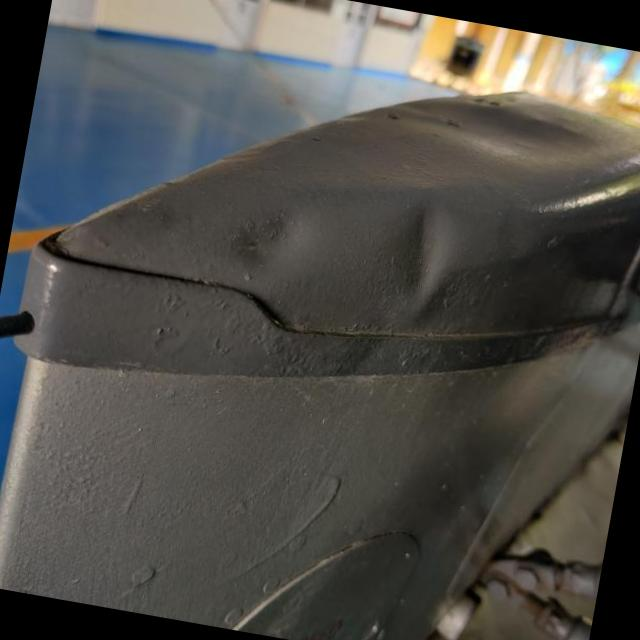Dent: (199, 191, 319, 322), (372, 195, 462, 322)
